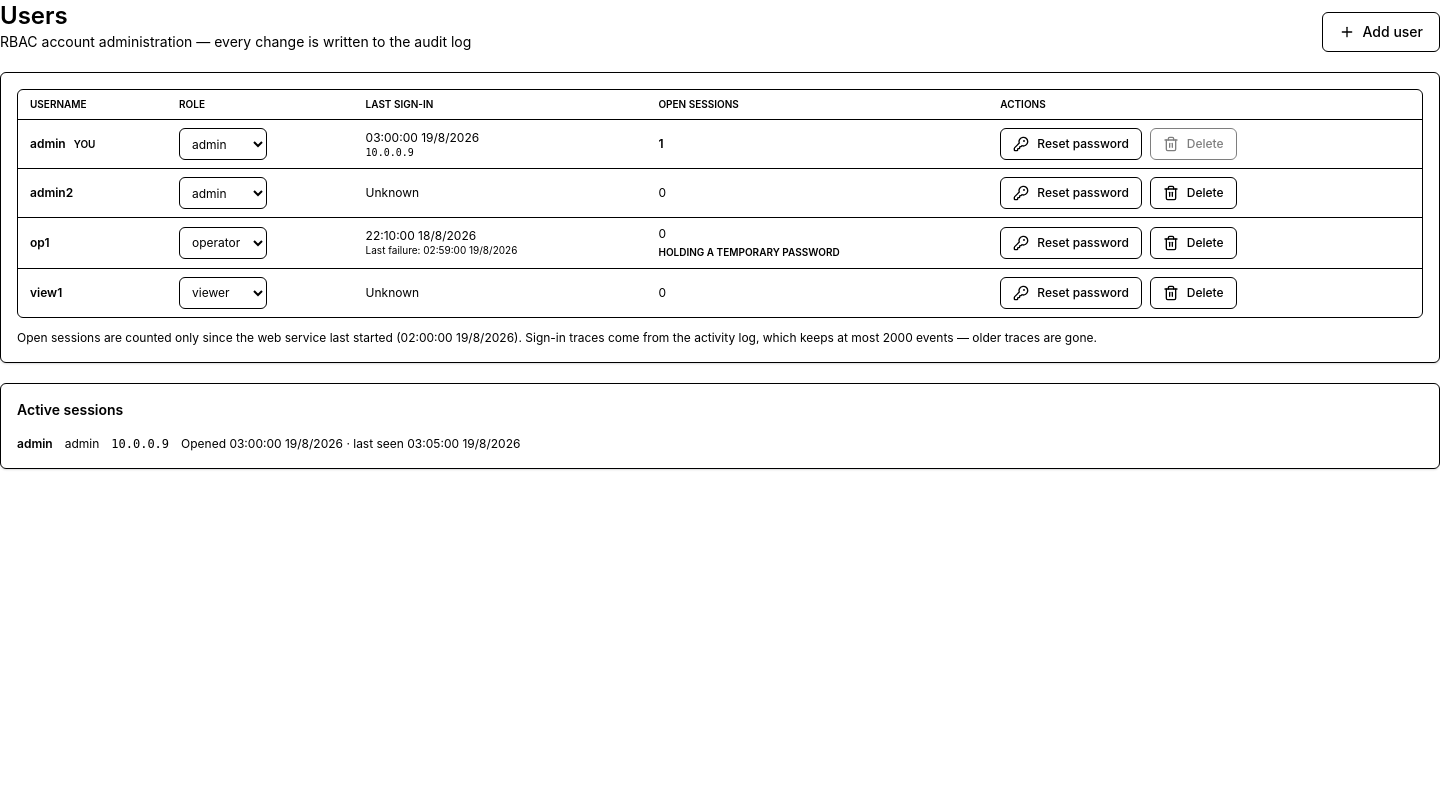
UsersPage create › reports a rejected creation rather than claiming success
This screenshot has width=1440, height=810.
Click the button "Add user": point(1381, 32) [1322, 12, 1439, 52]
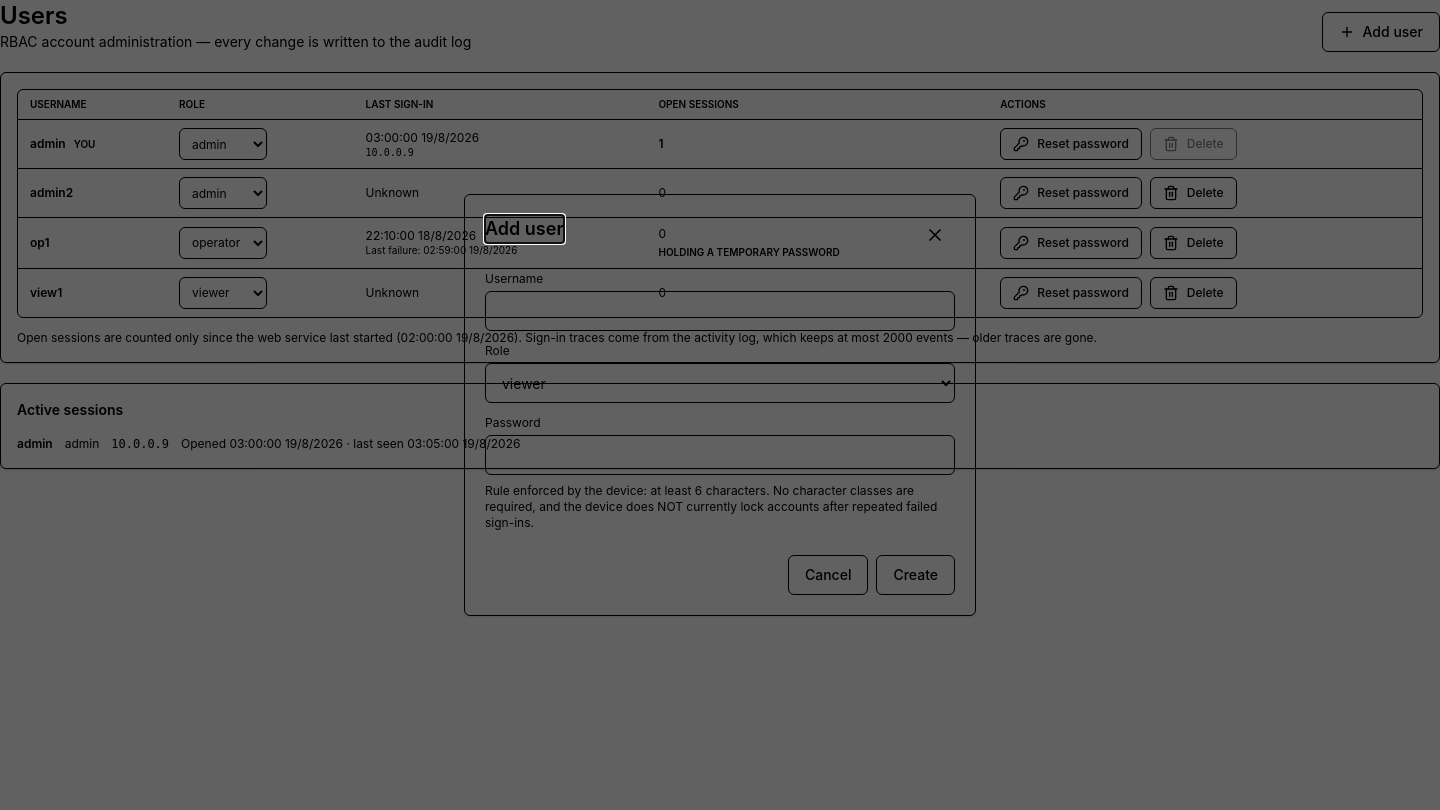
In the field labelled "Username": point(720, 311) [485, 291, 955, 331], type "admin"
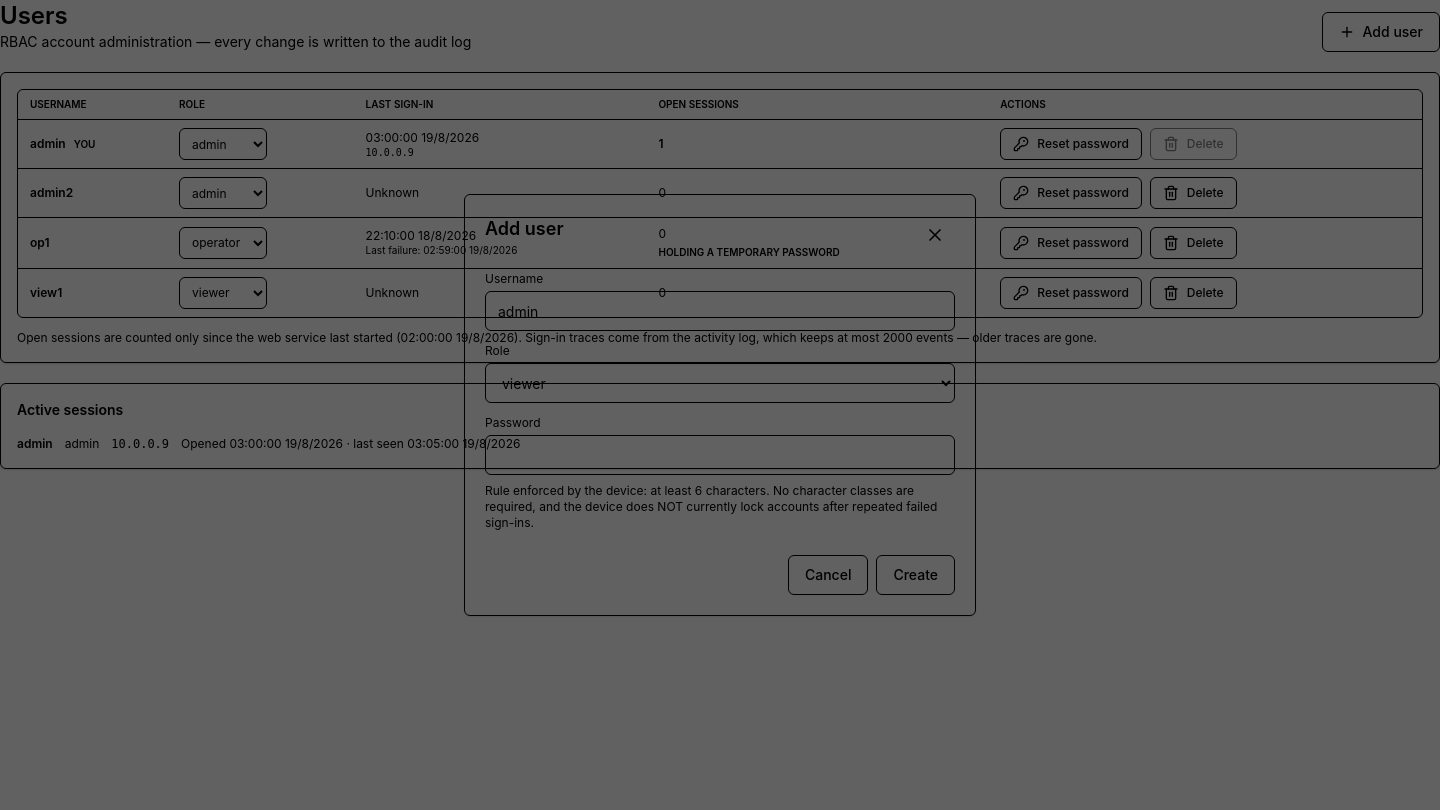
In the password field labelled "Password": point(720, 455) [485, 435, 955, 475], type "secret123"
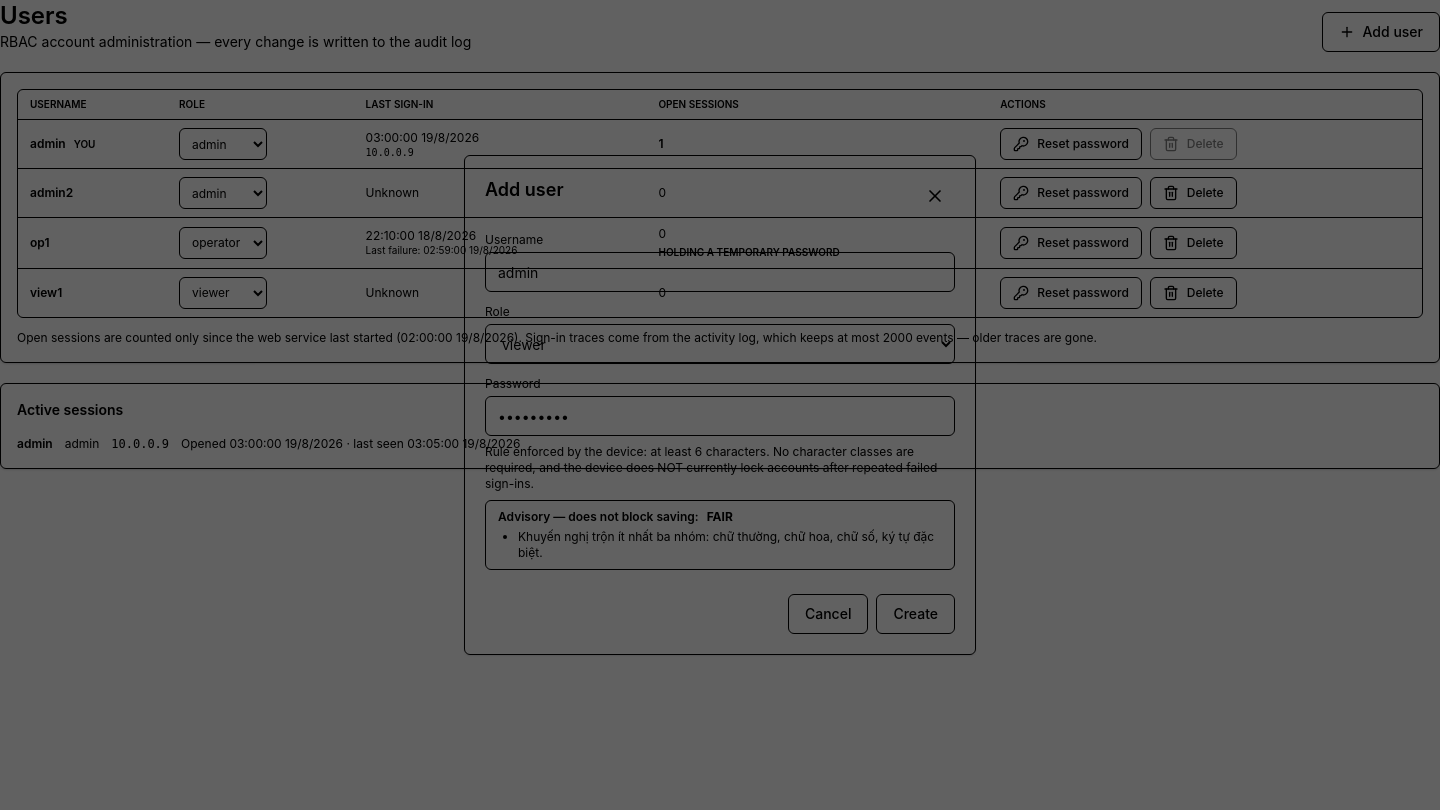
Click the button "Create": point(916, 614) [876, 594, 955, 634]
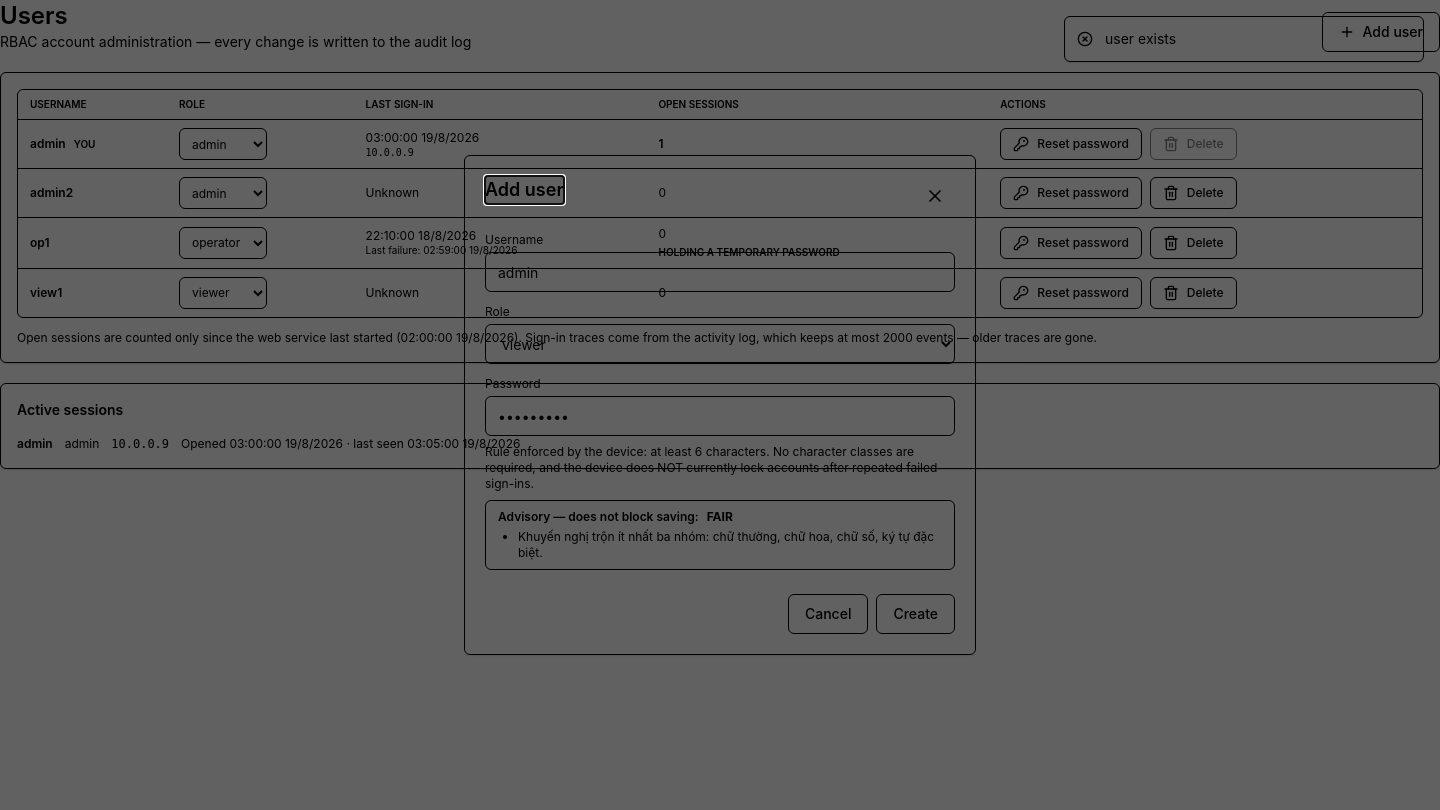
Check: the text "user exists" is shown, box [1105, 29, 1176, 49]
